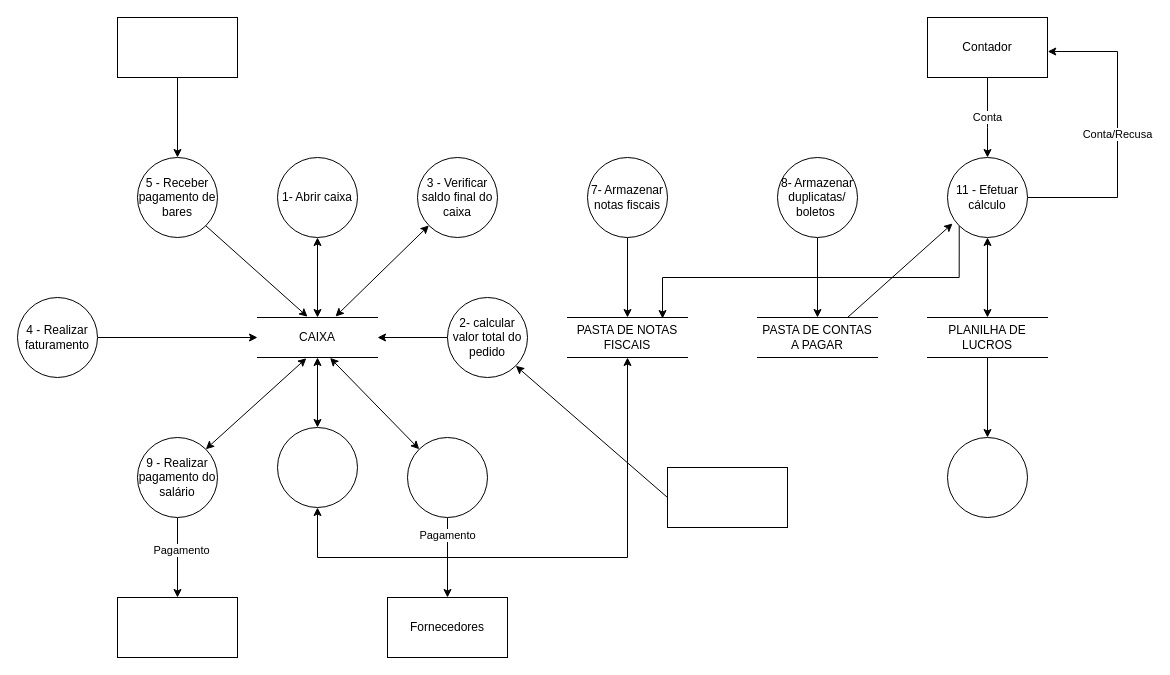
Some shapes in this 1170 by 675 pixel diagram are drawn without their labels. The centre of each missing label's shape, as x and y in pixels:
10 - Realizar pagamento de impostos: point 317,467
12- Criar implementar plano de ação: point 987,477
6-Realizar pagamento dos fornecedores: point 447,477
atendimento: point 727,497
Funcionários: point 177,627
outros bares: point 177,47
